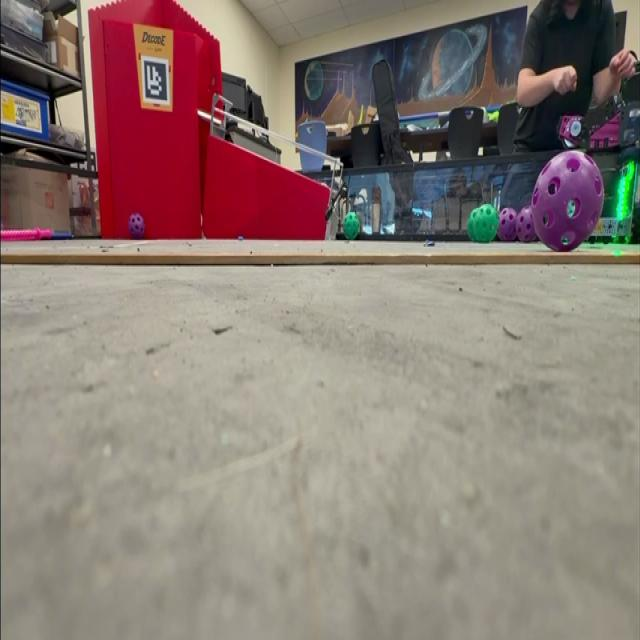artifact_green: (474, 204, 498, 243), (475, 206, 498, 243), (344, 211, 360, 239), (467, 208, 478, 241), (480, 203, 498, 217), (567, 200, 575, 217)
artifact_purple: (532, 150, 604, 251), (517, 206, 536, 242), (498, 208, 517, 242), (129, 214, 145, 239)
